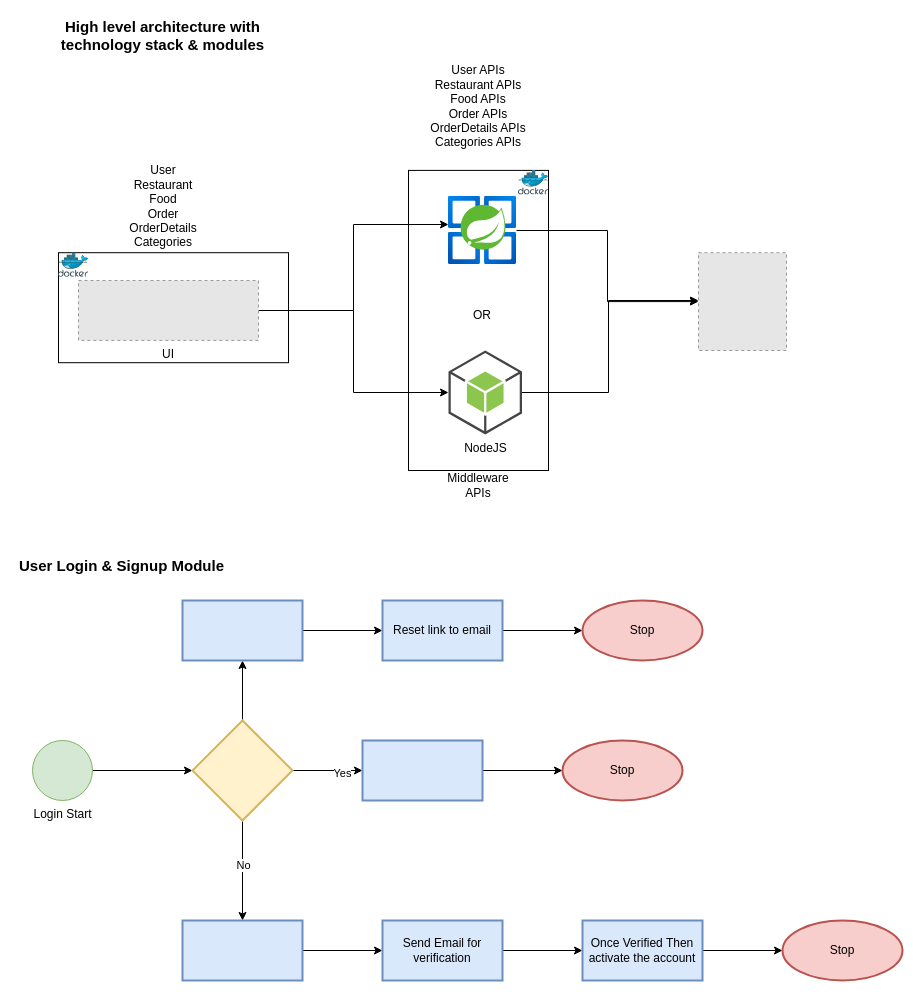
This 920x998 diagram has some shape labels left out. Grey dashed boxes stand in for pictures. The centre of each missing label's shape, as x and y in pixels:
Forgot Credentials: the point at 242,630
Has Account: the point at 242,770
Login with credentials: the point at 422,770
SignUp: the point at 242,950
Spring Boot: the point at 482,230
